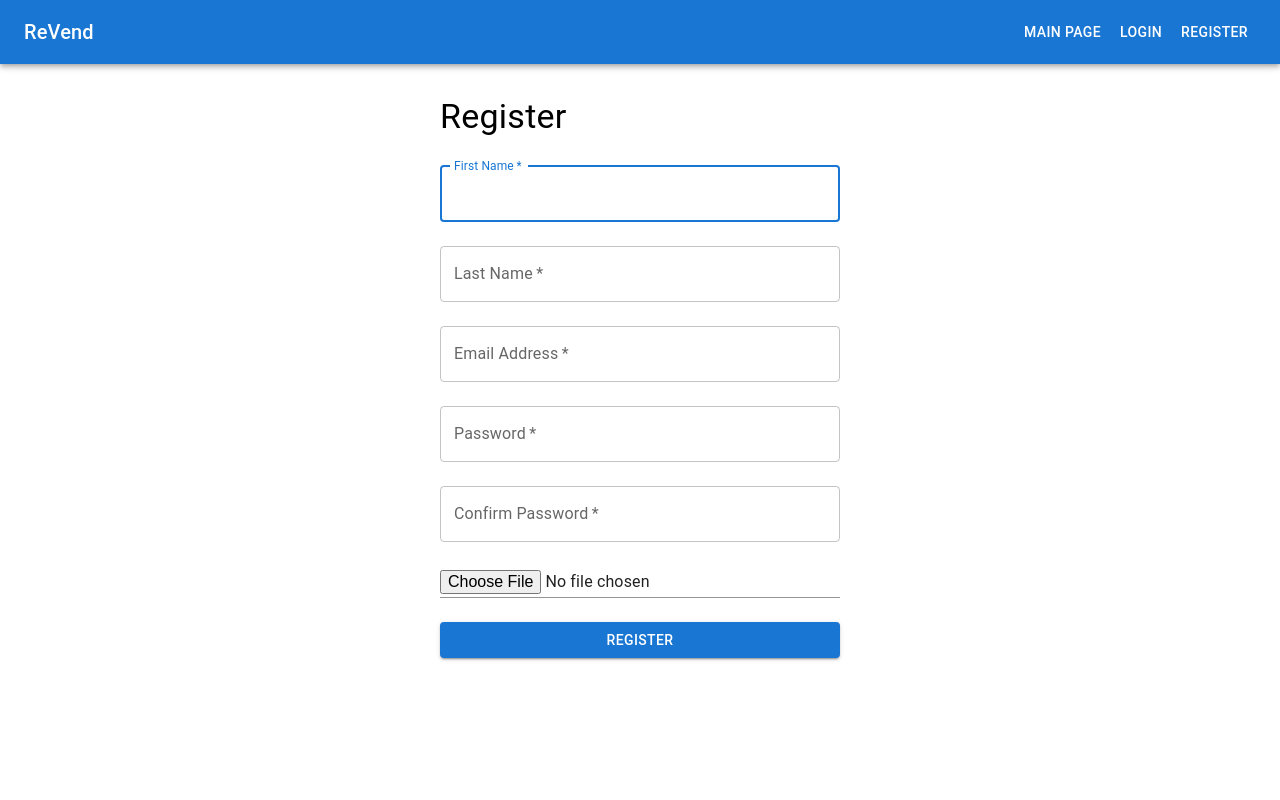
Test: Register Page › should show an error message if passwords do not match
The width and height of the screenshot is (1280, 800).
Step 1. Type "John" into the element with test id "first-name" → (640, 194), box [440,166,840,222]
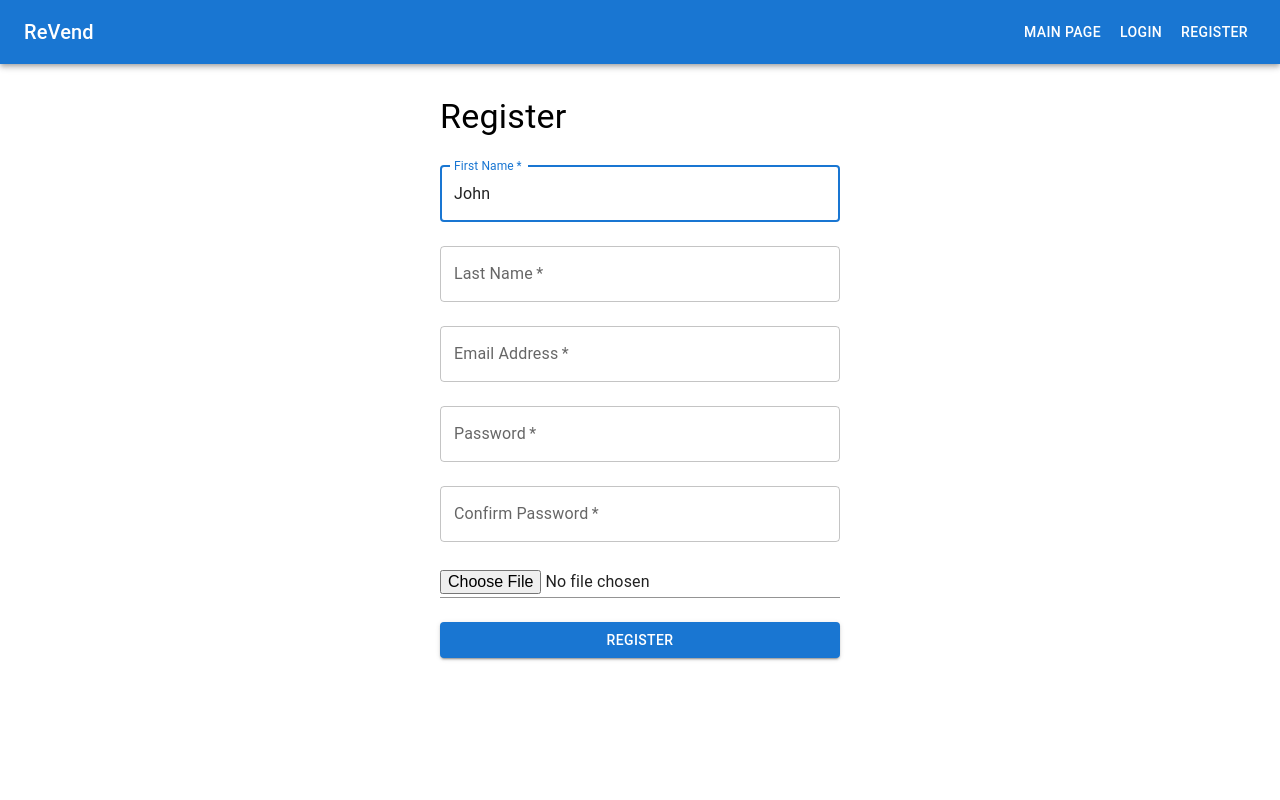
Step 2. Type "Doe" into the element with test id "last-name" → (640, 274), box [440,246,840,302]
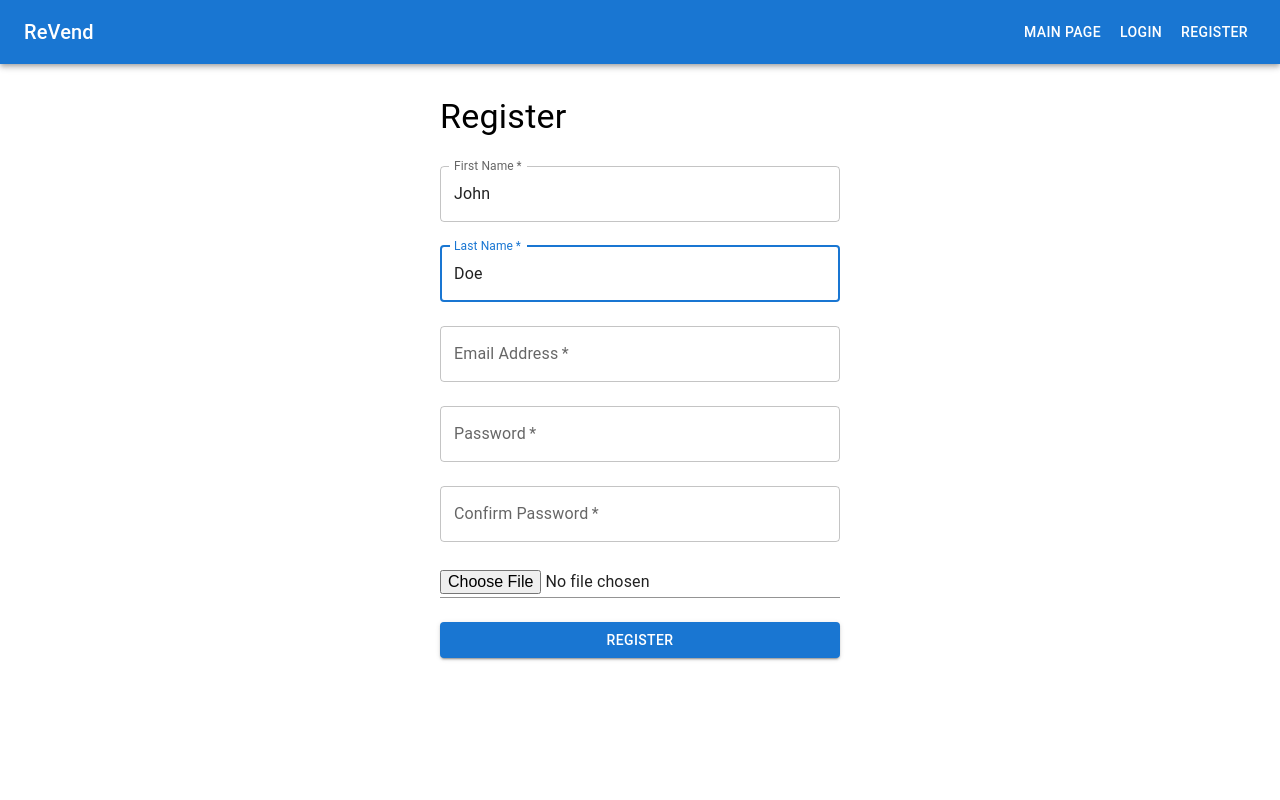
Step 3. Type "john.doe@example.com" into the element with test id "email" → (640, 354), box [440,326,840,382]
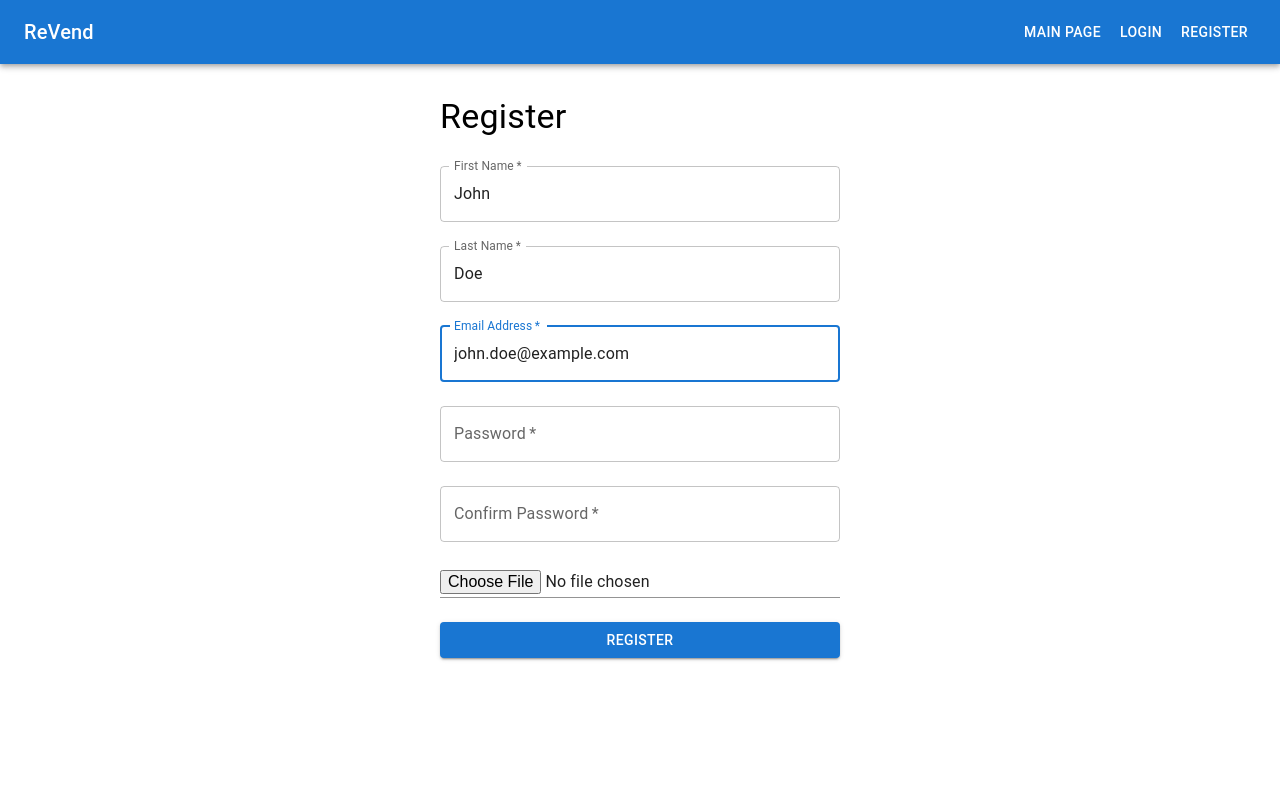
Step 4. Type "password" into the element with test id "password" → (640, 434), box [440,406,840,462]
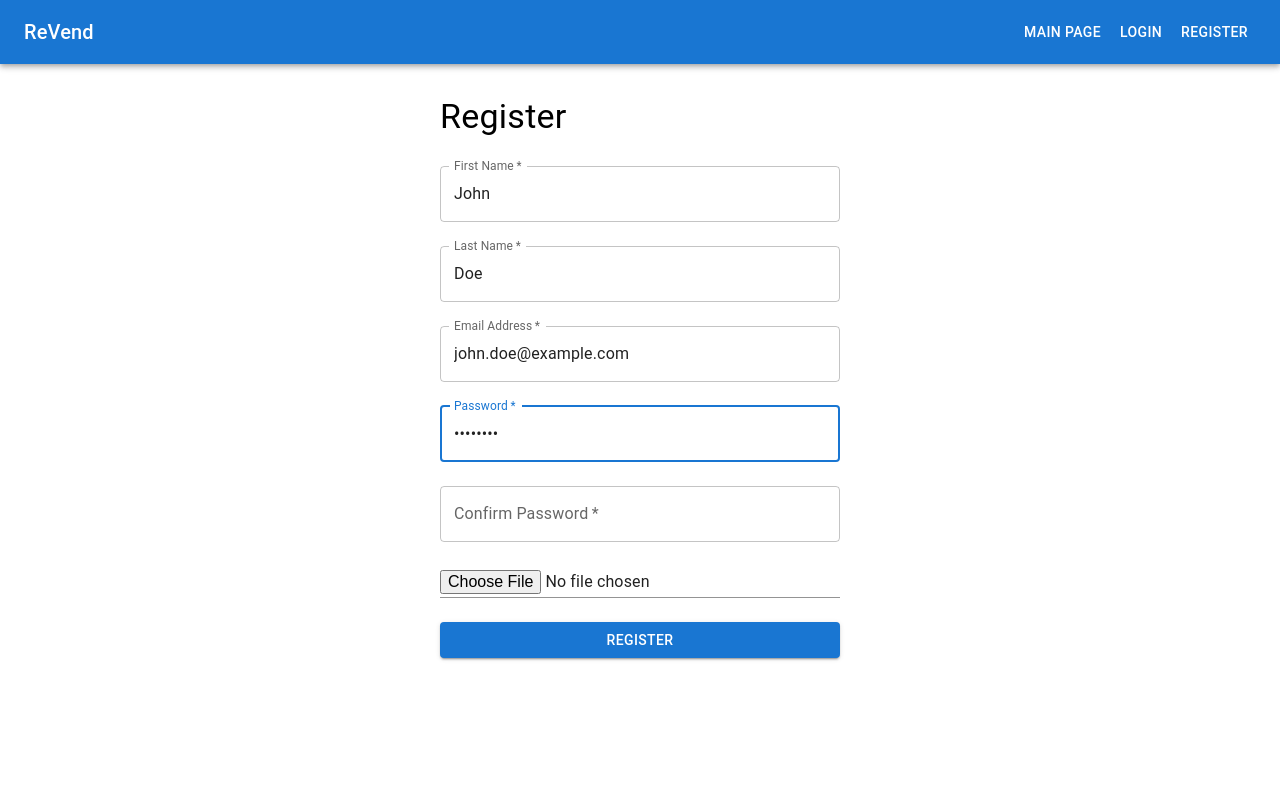
Step 5. Type "differentpassword" into the element with test id "confirm-password" → (640, 514), box [440,486,840,542]
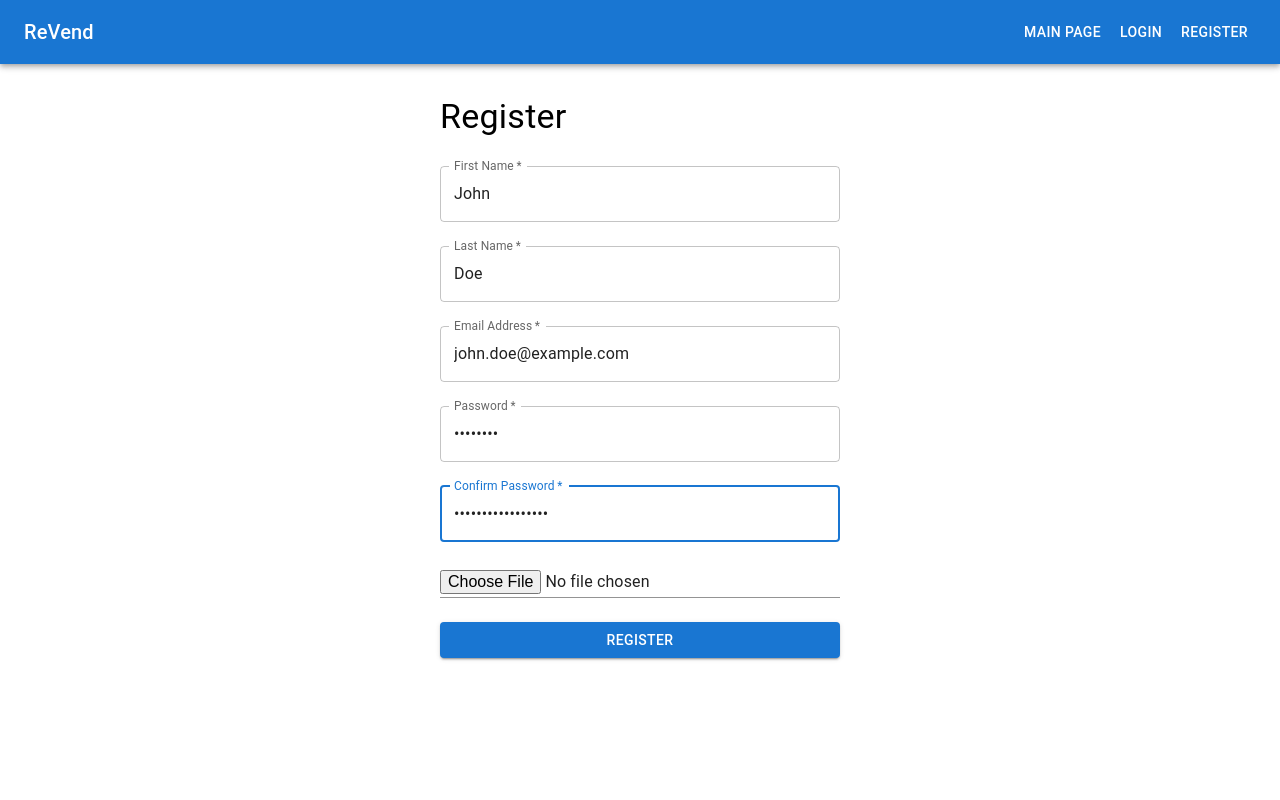
Step 6. Click the button with test id "register-button" → click(640, 641), box [440,622,840,659]
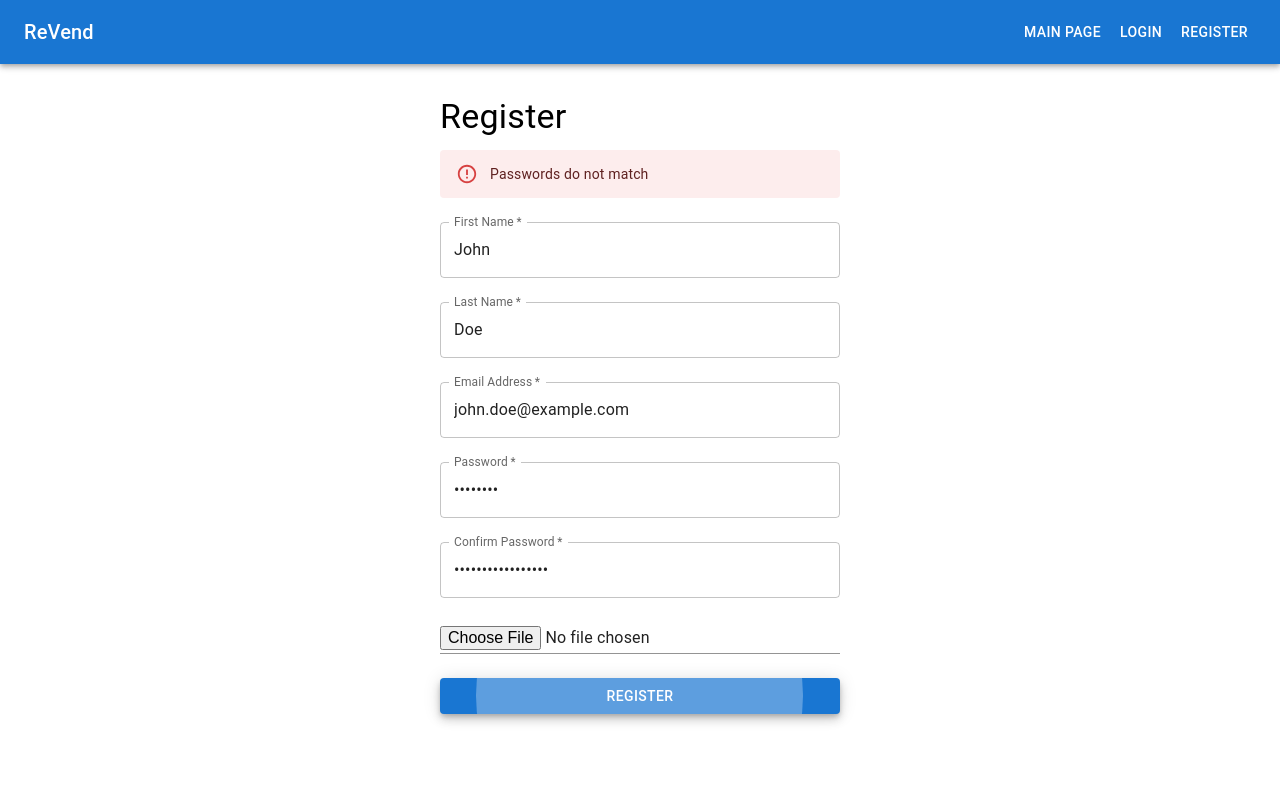
Check: the text with test id "error-message" reads "Passwords do not match", box [490,166,648,182]
